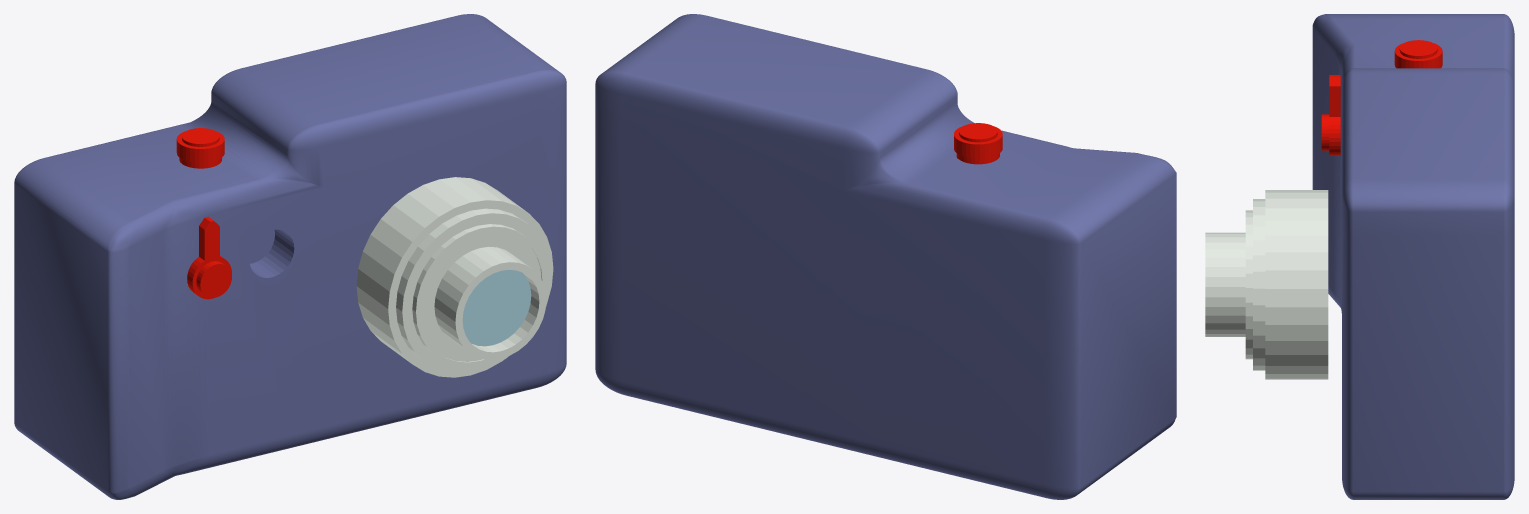
Rendered from photo.fbx.
The picture shows the model from 3 angles, left to right: view 1: azimuth 30°, elevation 25°; view 2: azimuth 150°, elevation 25°; view 3: azimuth 270°, elevation 25°; orthographic projection. The views are drawn at different scales.
Parts seen in each view (by area): view 1: Cube, Cylinder.001, Cylinder.003, Cylinder.002, Cylinder; view 2: Cube, Cylinder; view 3: Cube, Cylinder.001, Cylinder, Cylinder.002.
Boxes of the visible parts, <box> form: Cube: <box>14,14,566,499</box>; Cylinder.001: <box>356,177,553,377</box>; Cylinder.003: <box>462,270,531,346</box>; Cylinder.002: <box>187,216,231,299</box>; Cylinder: <box>176,128,224,168</box>; Cube: <box>595,14,1176,499</box>; Cylinder: <box>954,123,1002,164</box>; Cube: <box>1312,14,1514,499</box>; Cylinder.001: <box>1205,190,1328,379</box>; Cylinder: <box>1394,40,1442,68</box>; Cylinder.002: <box>1321,75,1340,155</box>.
Size of the model in its own units: 380 by 242 by 215.
